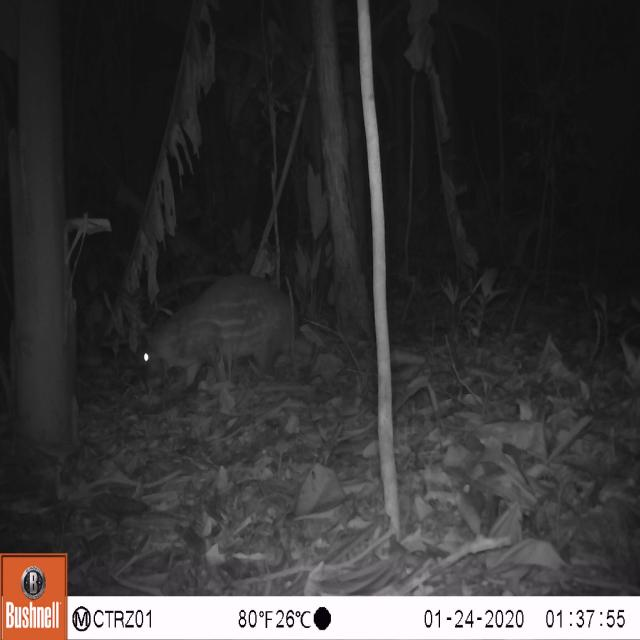Spotted Paca: (123, 251, 352, 412)
